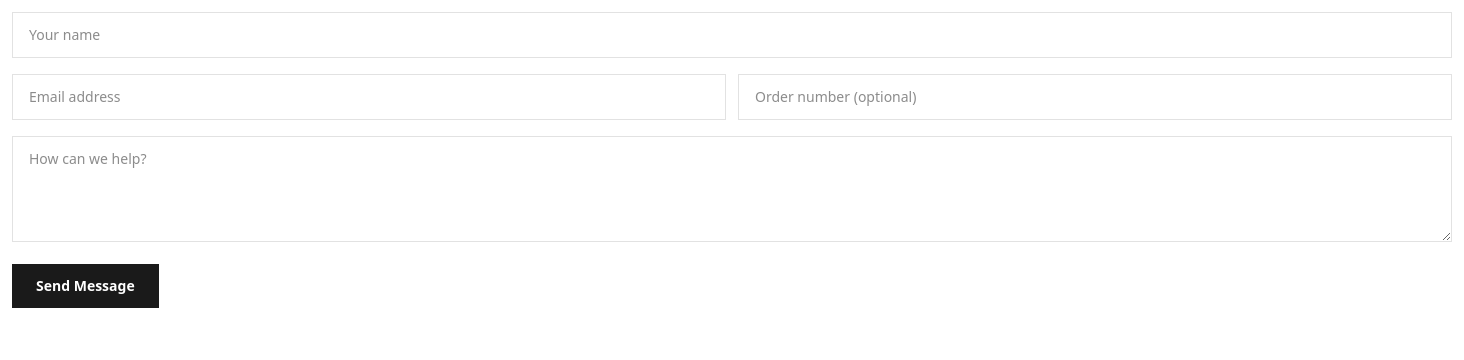
Test: ContactForm › shows success and clears the form only on a 200
Type "Asha" into the field labelled "Your name" at (732, 35), box [12,12,1452,58]
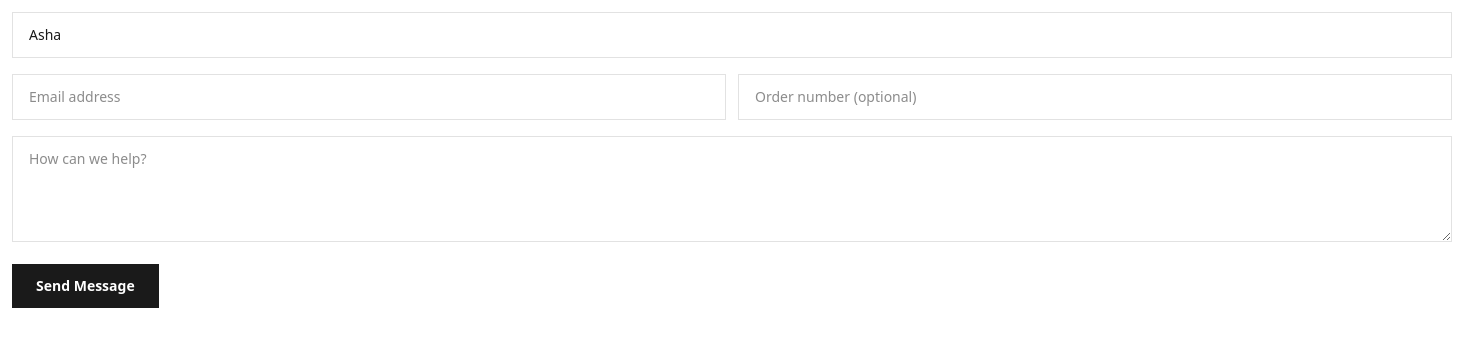
Type "asha@example.com" into the field labelled "Email address" at (369, 97), box [12,74,726,120]
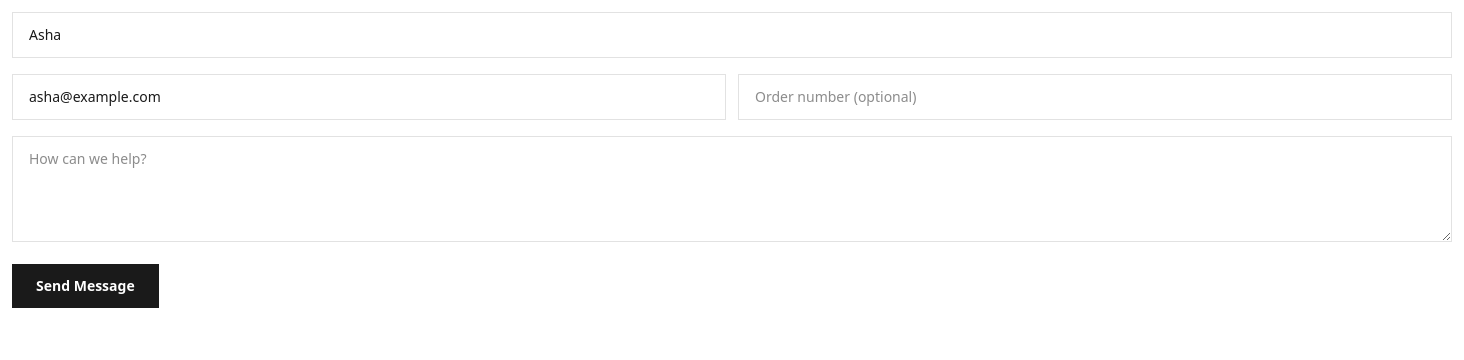
Type "Hello" into the text box labelled "How can we help?" at (732, 189), box [12,136,1452,242]
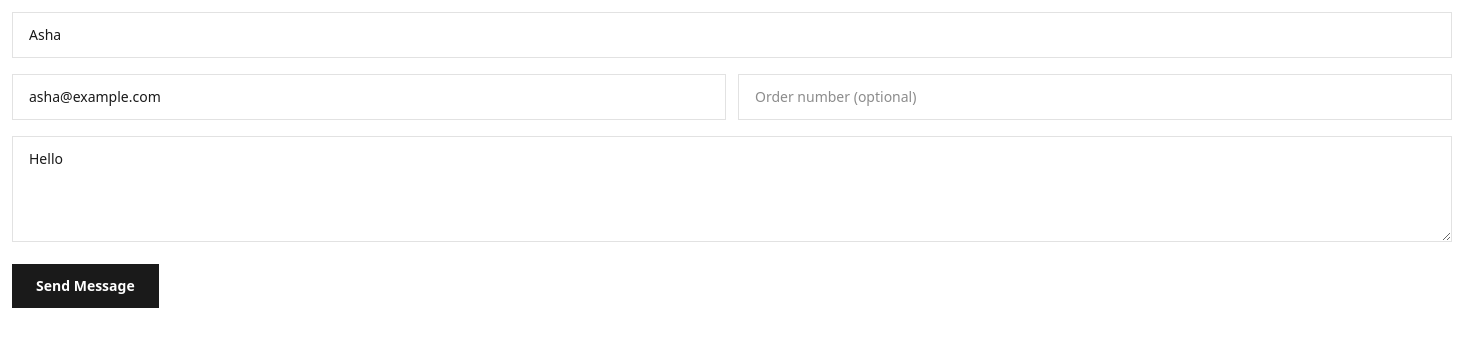
Click the button "Send Message" at (85, 286), box [12,264,159,308]
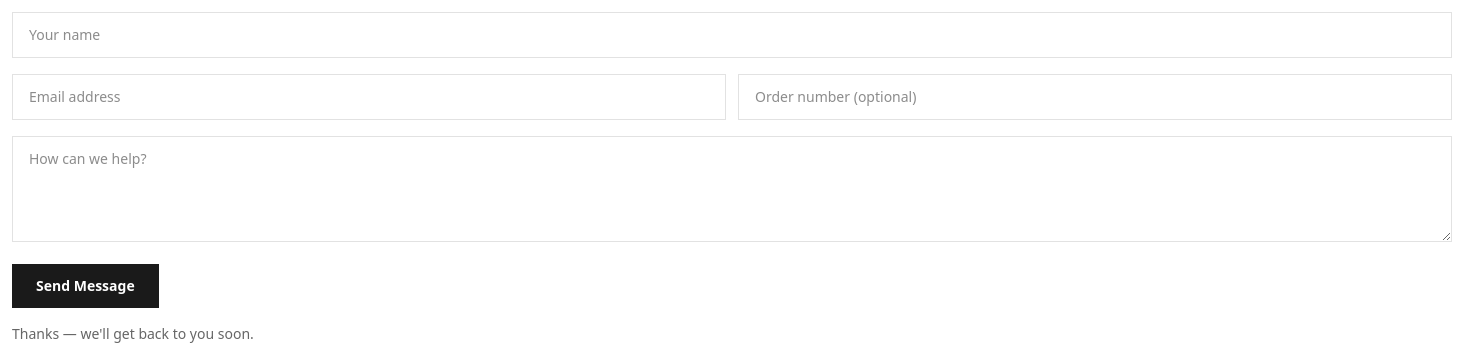
Now the text "Thanks — we'll get back to you soon." is shown, box [12,324,254,343]
Now the text box labelled "How can we help?" is empty, box [12,136,1452,242]
